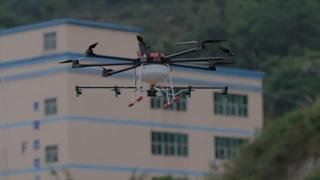UAV: (66, 35, 234, 107)
